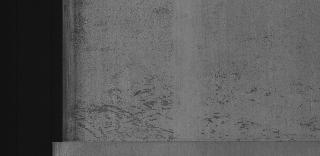welding line: (50, 136, 320, 148)
